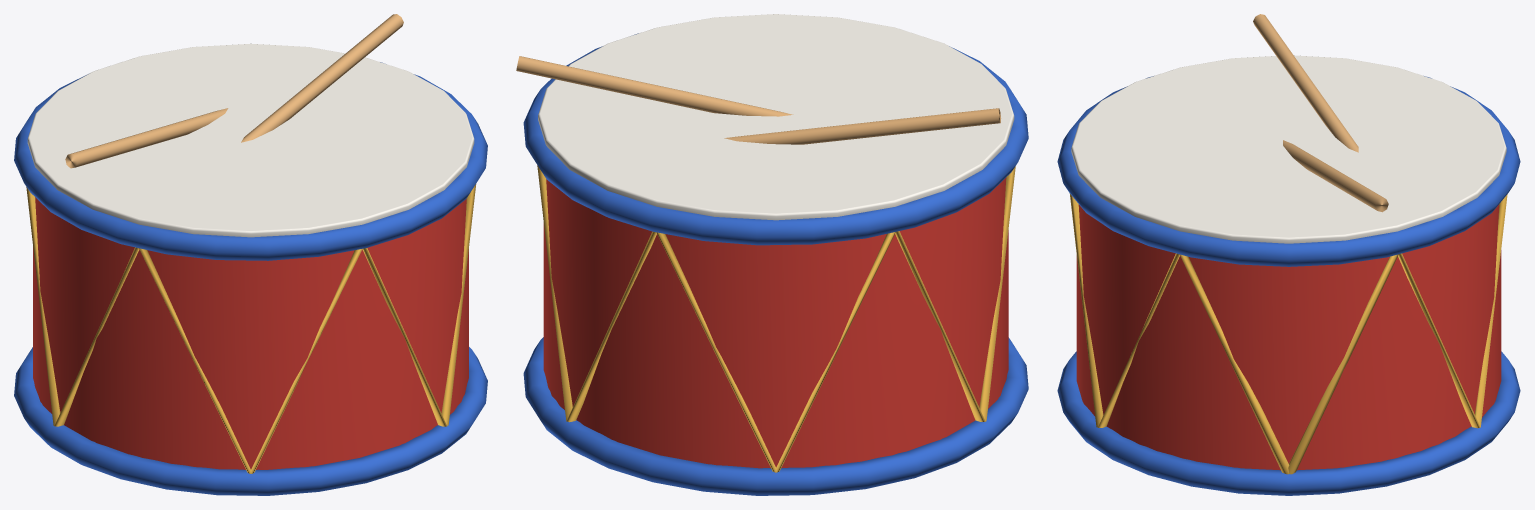
Rendered from toy_drum.glb.
3 renders of one model, left to right at view 1: azimuth 30°, elevation 25°; view 2: azimuth 150°, elevation 25°; view 3: azimuth 270°, elevation 25°, orthographic. The views are drawn at different scales.
Visible parts, largest first — view 1: toy_drum; view 2: toy_drum; view 3: toy_drum.
Part boxes in pixels (x1,y1,x2,y2): toy_drum: (14, 14, 487, 495); toy_drum: (516, 14, 1028, 495); toy_drum: (1057, 14, 1520, 495).
Bounding box in the file's own units: 4.36 × 3.08 × 4.36.
